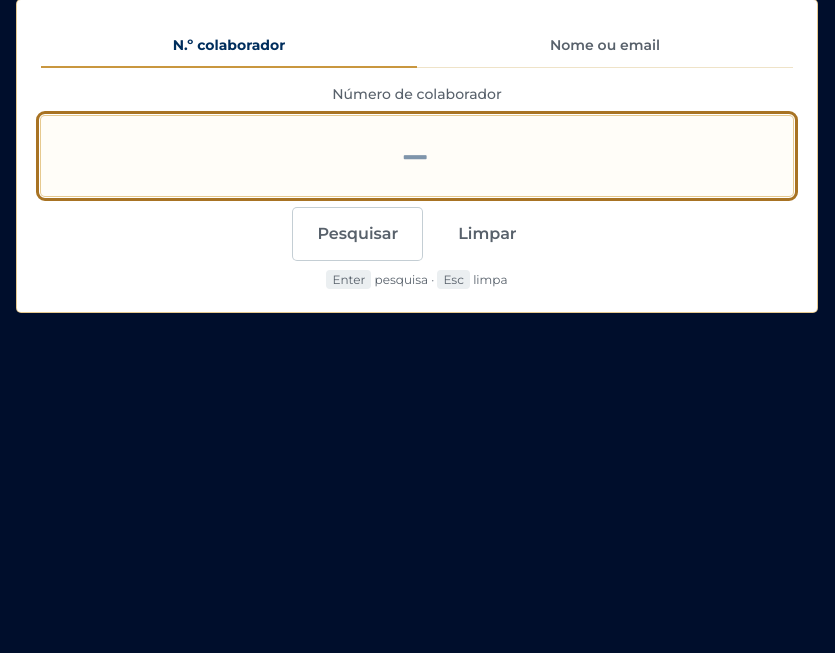
Test: ecrã de distribuição › acrescenta o colaborador e abre-lhe logo o cartão de entrega
This screenshot has width=835, height=653.
Type keys "9787{Enter}"
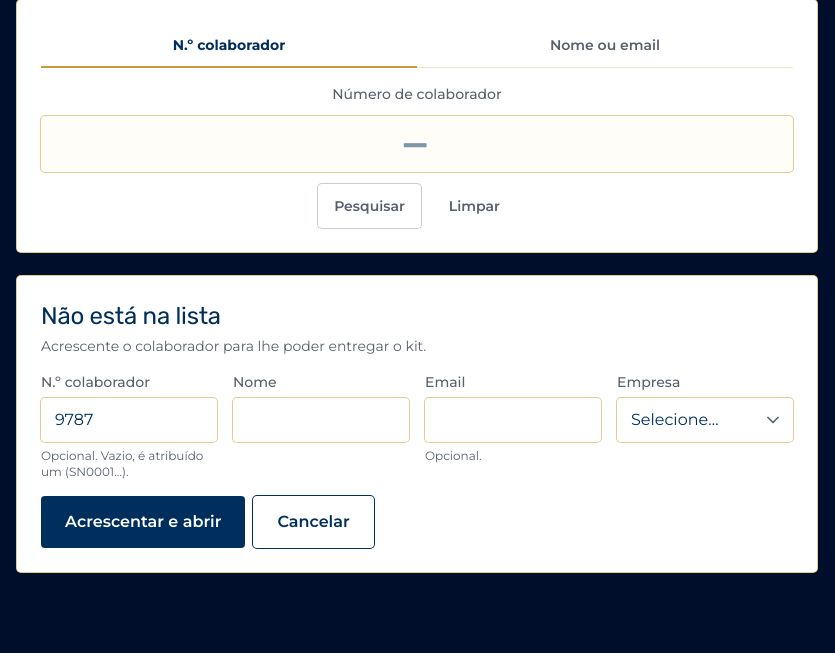
Check: the heading "Não está na lista" is shown, box [41,302,221,330]
In the field labelled "Nome": coordinates (321, 420) [233,398,409,442], type "  Daniela Santos  "
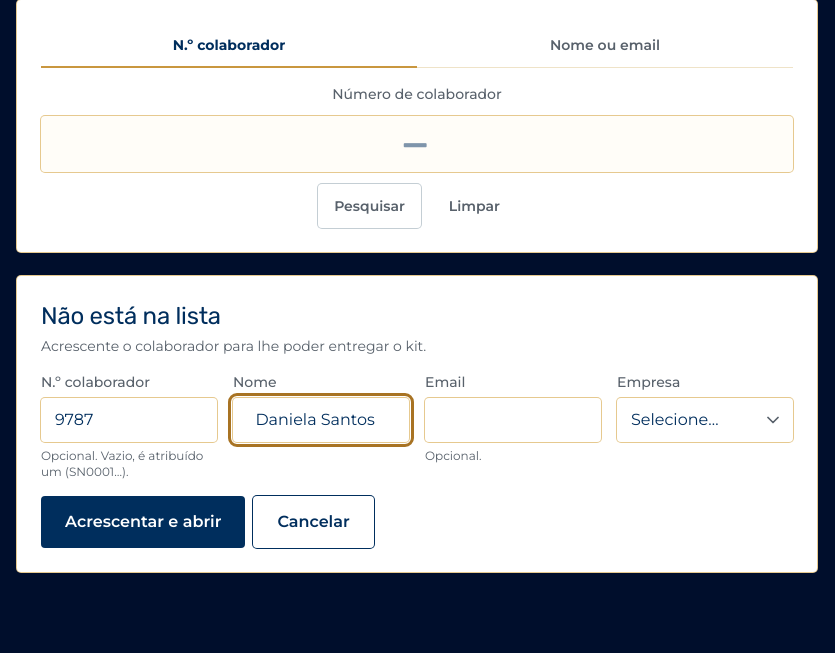
Select "Empresa A" in the dropdown labelled "Empresa": coordinates (705, 420) [617,398,793,442]
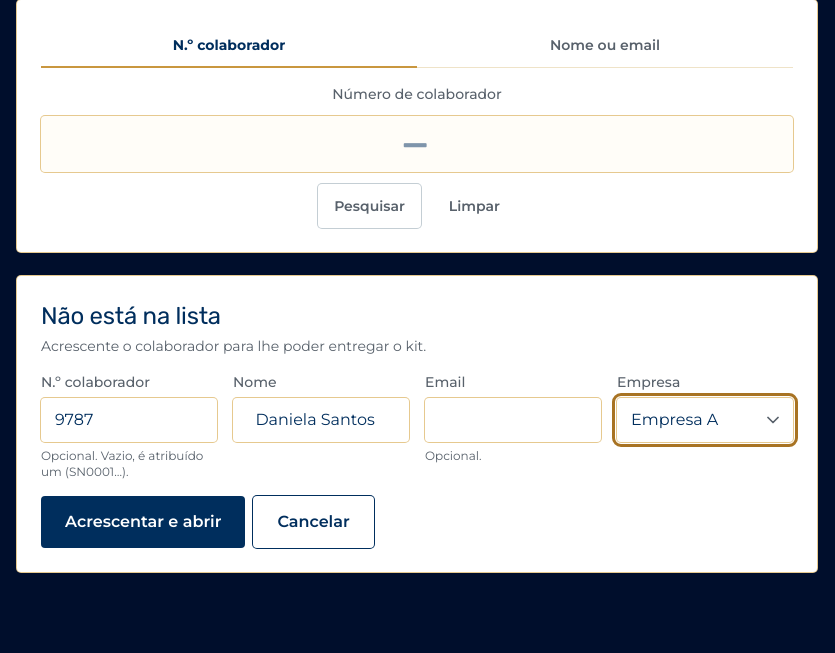
Click the button "Acrescentar e abrir": coordinates (143, 522) [41,496,245,548]
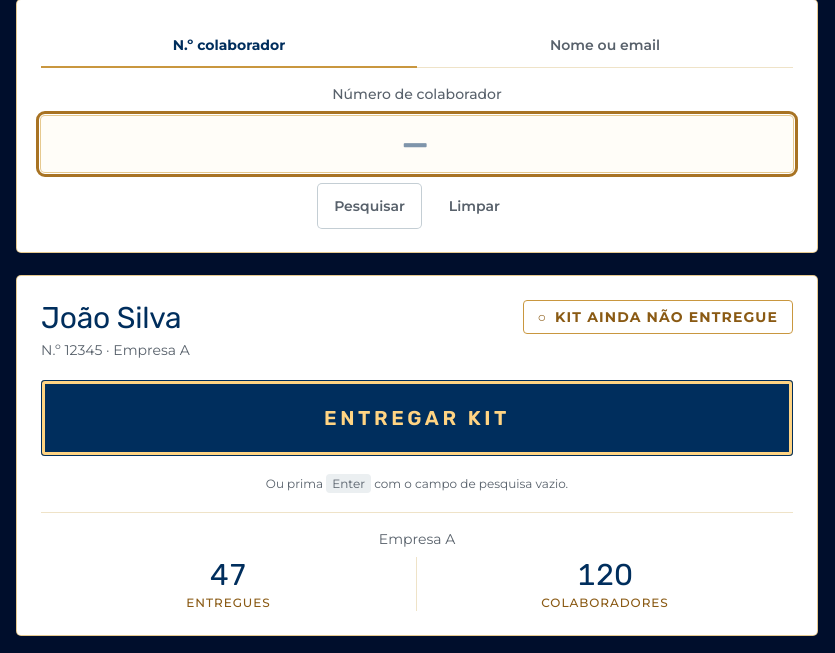
Check: the button "ENTREGAR KIT" is enabled, box [41,380,793,456]
